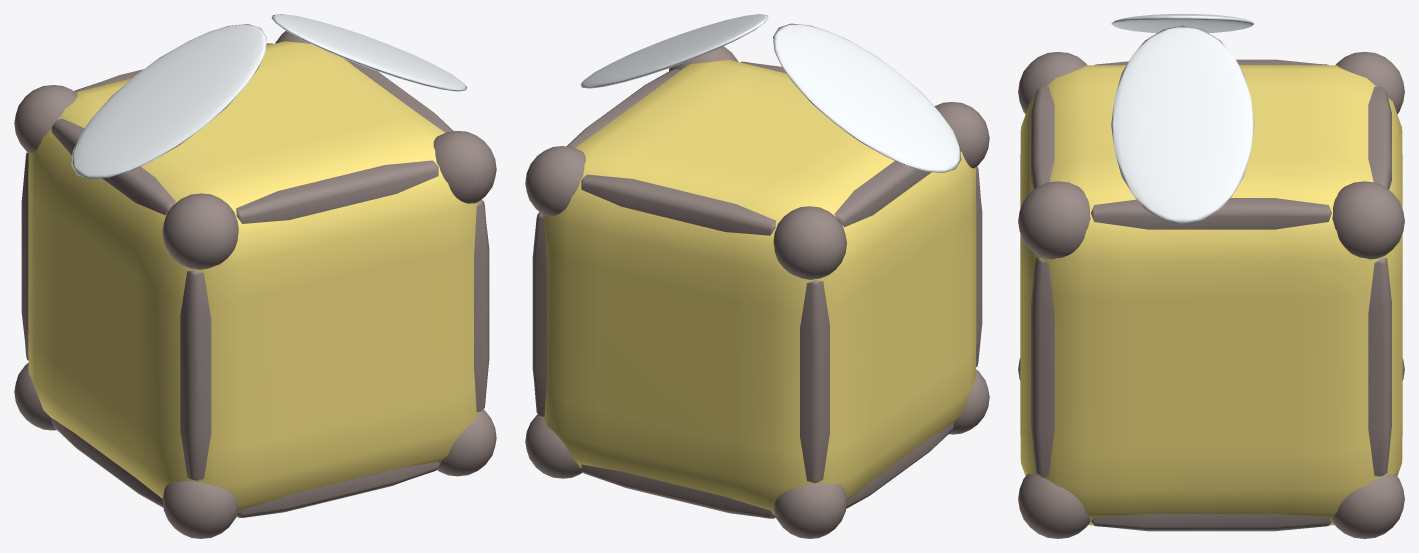
Rendered from HoneyDice.glb.
The picture shows the model from 3 angles, left to right: view 1: azimuth 30°, elevation 25°; view 2: azimuth 150°, elevation 25°; view 3: azimuth 270°, elevation 25°; orthographic projection. The views are drawn at different scales.
Parts seen in each view (by area): view 1: Block, Trim, Wings; view 2: Block, Trim, Wings; view 3: Block, Trim, Wings.
Part boxes in pixels (left/top/right/bottom): Block: left=28, top=41, right=482, bottom=517; Trim: left=14, top=31, right=496, bottom=538; Wings: left=71, top=14, right=466, bottom=179; Block: left=539, top=59, right=976, bottom=518; Trim: left=525, top=46, right=989, bottom=538; Wings: left=580, top=14, right=961, bottom=172; Block: left=1020, top=65, right=1402, bottom=525; Trim: left=1018, top=52, right=1404, bottom=538; Wings: left=1111, top=14, right=1254, bottom=223.
Bounding box in the file's own units: 4.8 × 5.18 × 4.05.
